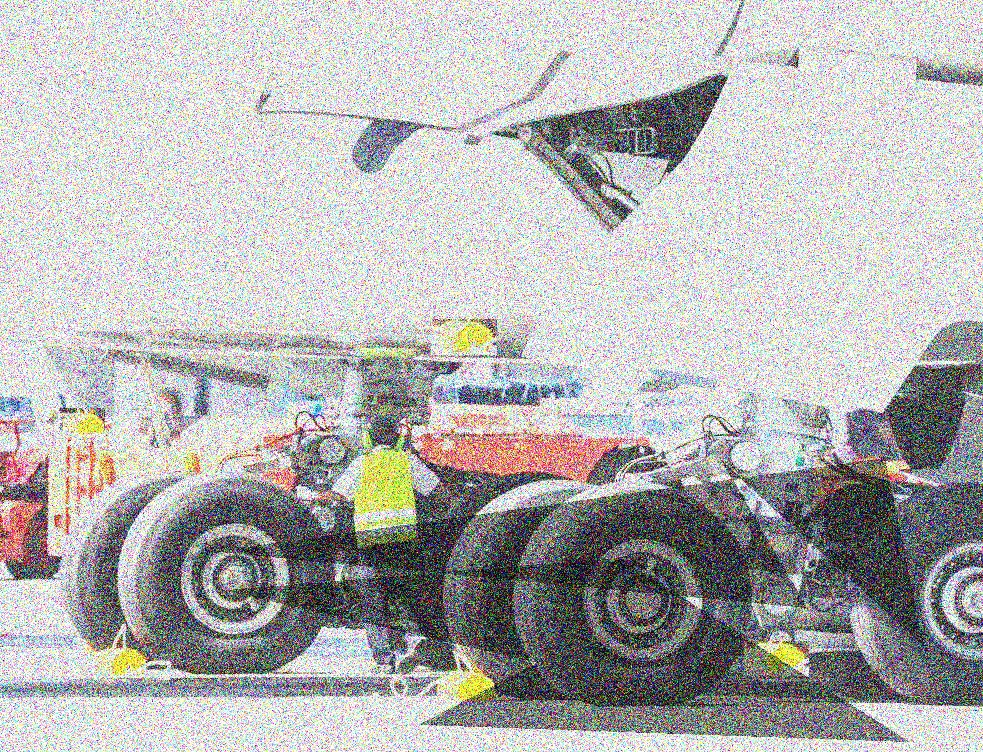chock: (434, 664, 498, 705), (431, 319, 497, 356), (744, 641, 809, 677), (91, 646, 150, 679), (60, 408, 105, 437)
wheel: (502, 478, 751, 701), (117, 469, 336, 671), (437, 477, 615, 696), (790, 479, 934, 699), (843, 481, 983, 698), (58, 469, 203, 660), (4, 512, 60, 579), (585, 445, 669, 489)
